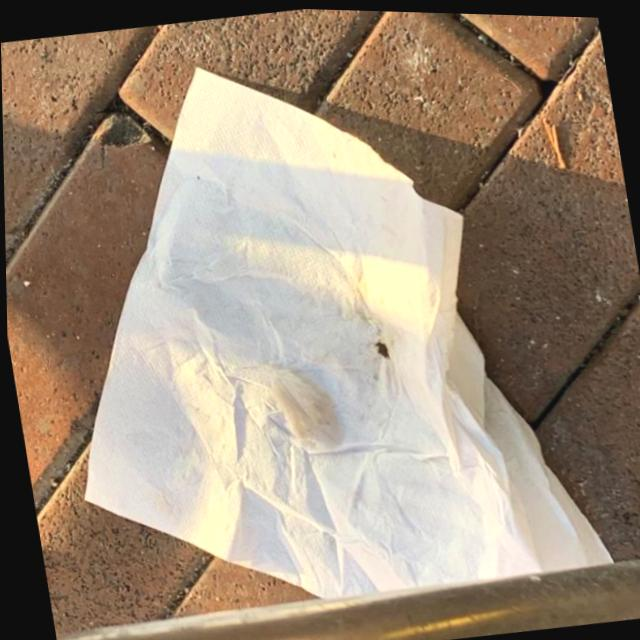Paper: (13, 10, 614, 632)
